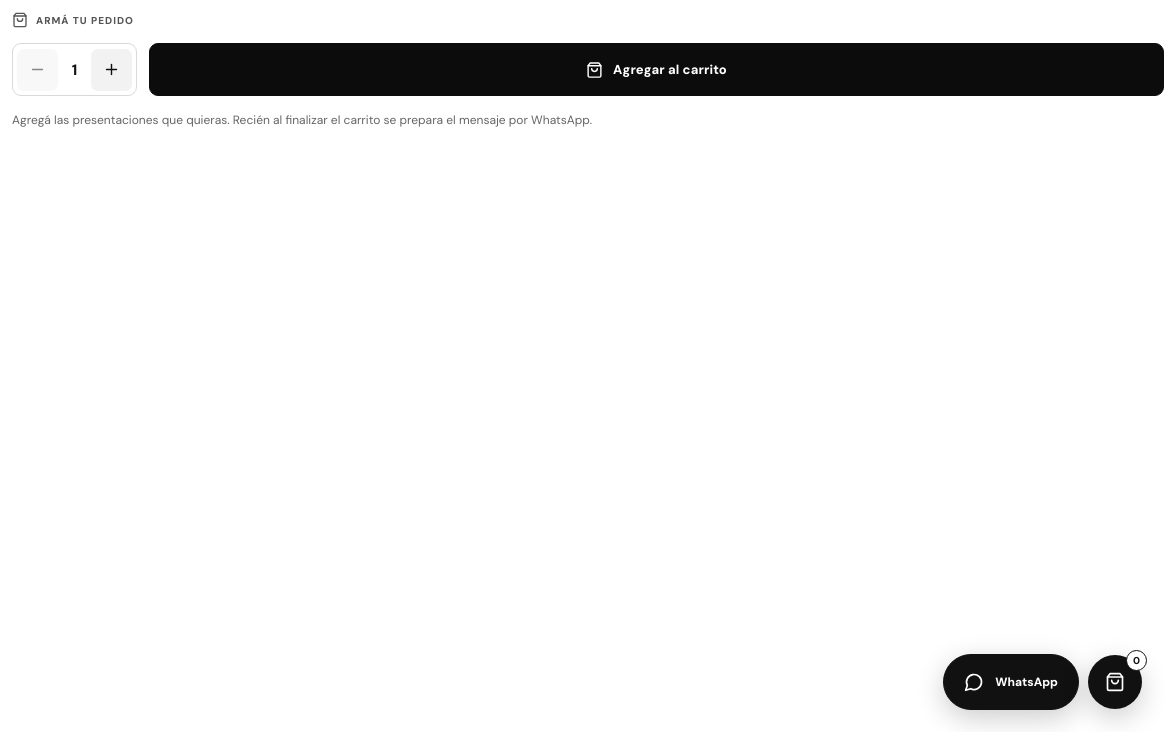
Test: flujo Viagelato: producto → carrito → pedido por WhatsApp › permite seleccionar varias presentaciones desde la ficha y mantiene el carrito como siguiente paso
Click the button named "Sumar cantidad".
click(112, 70)  # box [91, 48, 132, 90]
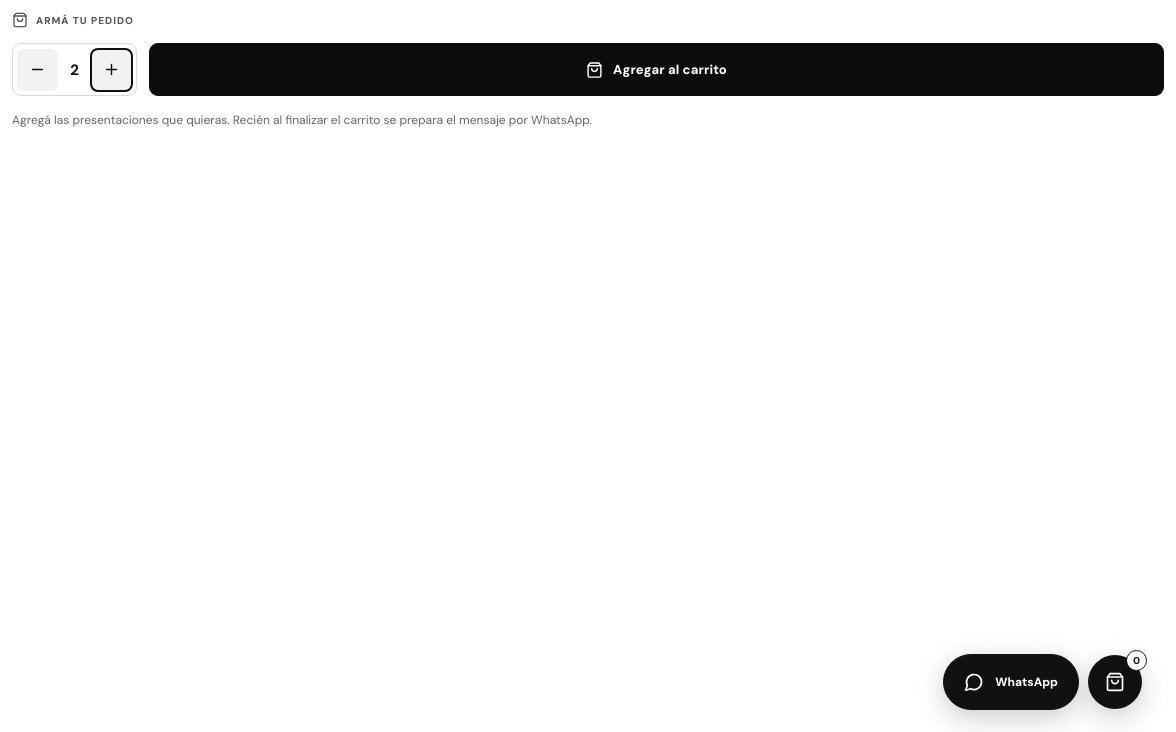
Click the button named "Sumar cantidad".
click(112, 70)  # box [91, 48, 132, 90]
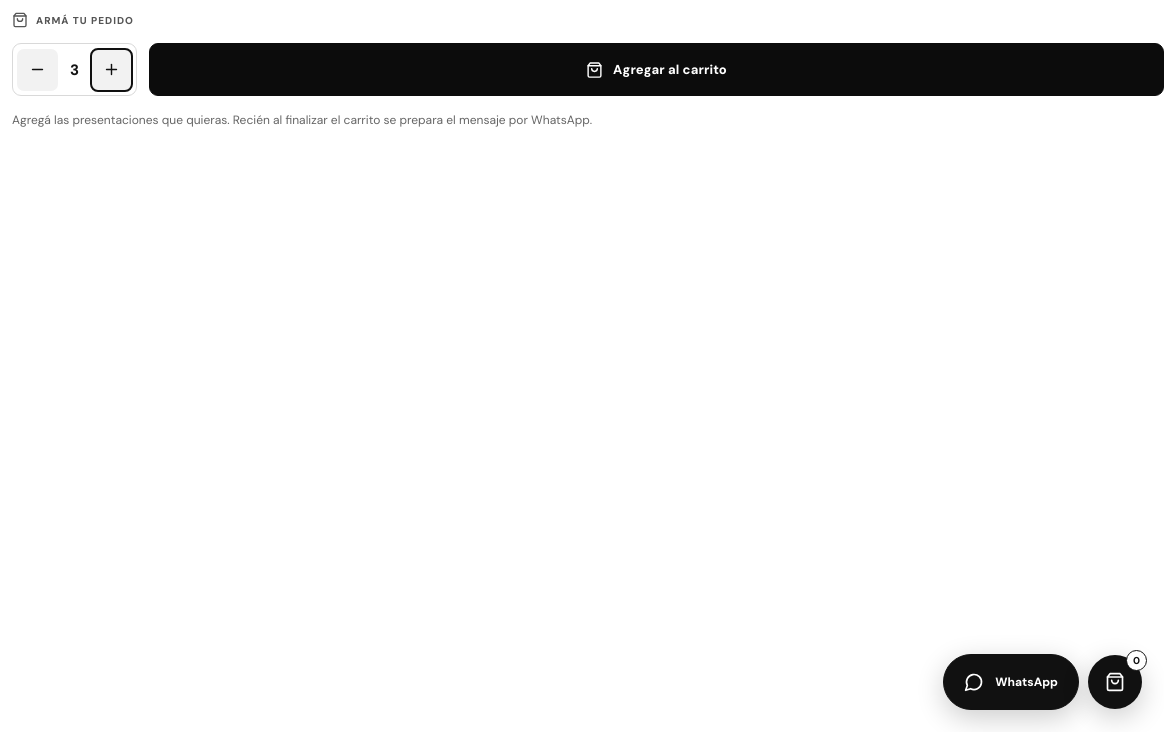
Click the button "Agregar al carrito".
click(656, 70)  # box [149, 43, 1164, 96]
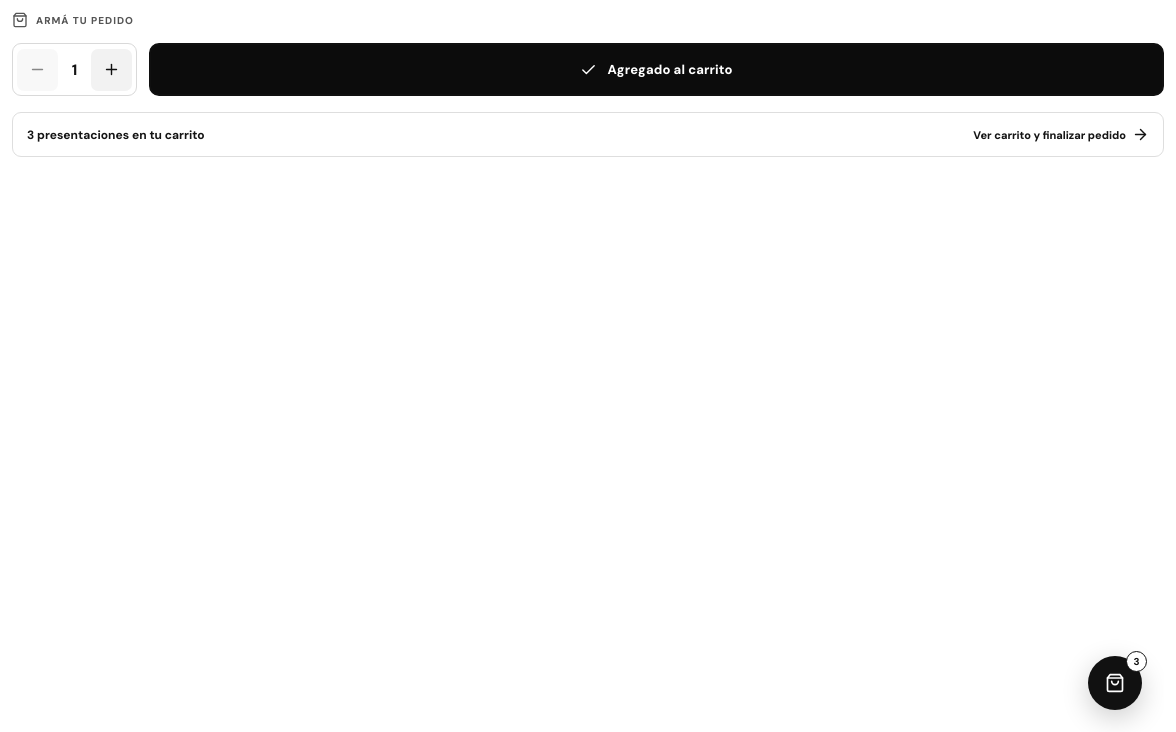
expect the text "3 presentaciones en tu carrito" is shown: met, box [27, 126, 205, 142]
